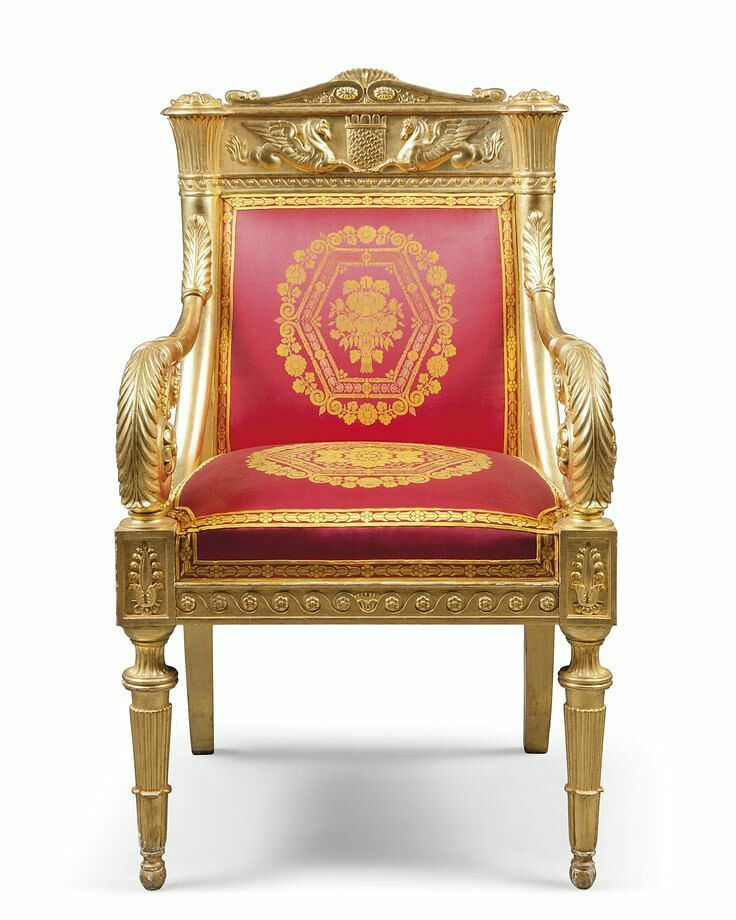Carving Chair: (110, 68, 636, 920)
